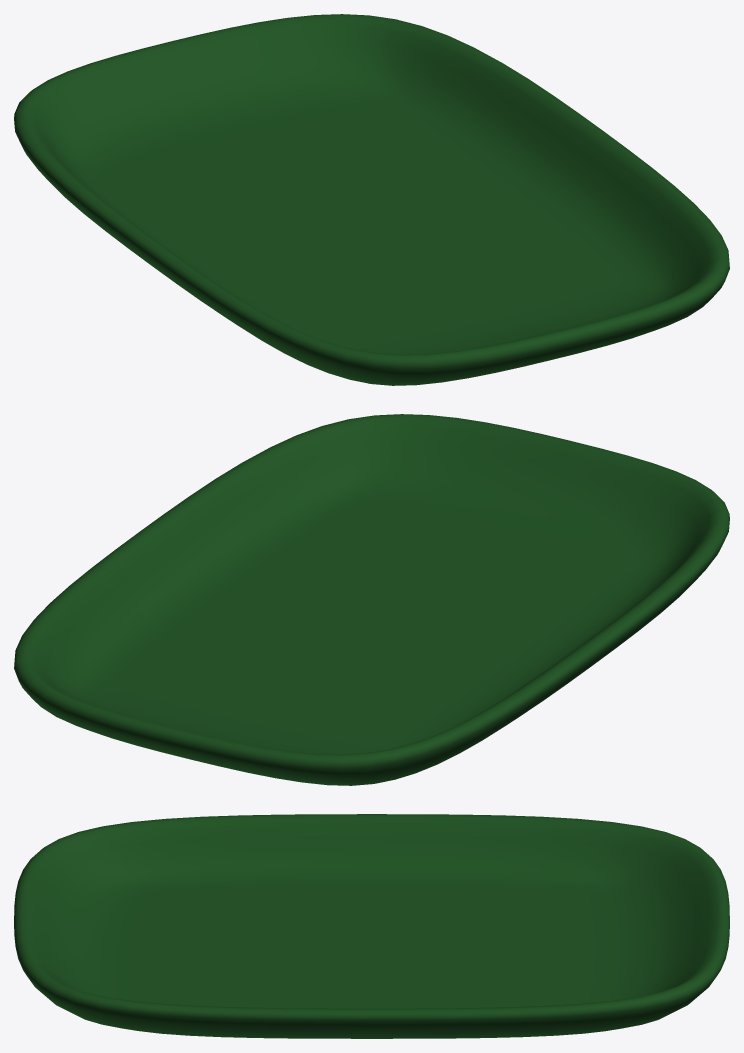
File: rolling tray.fbx
3 renders of one model, top to bottom at view 1: azimuth 30°, elevation 25°; view 2: azimuth 150°, elevation 25°; view 3: azimuth 270°, elevation 25°, orthographic. The views are drawn at different scales.
Parts seen in each view (by area): view 1: Rolling Tray; view 2: Rolling Tray; view 3: Rolling Tray.
Part boxes in pixels (left/top/right/bottom): Rolling Tray: left=14, top=14, right=729, bottom=385; Rolling Tray: left=14, top=414, right=729, bottom=785; Rolling Tray: left=14, top=814, right=729, bottom=1038.
Bounding box in the file's own units: 34.86 × 4.37 × 52.32.
